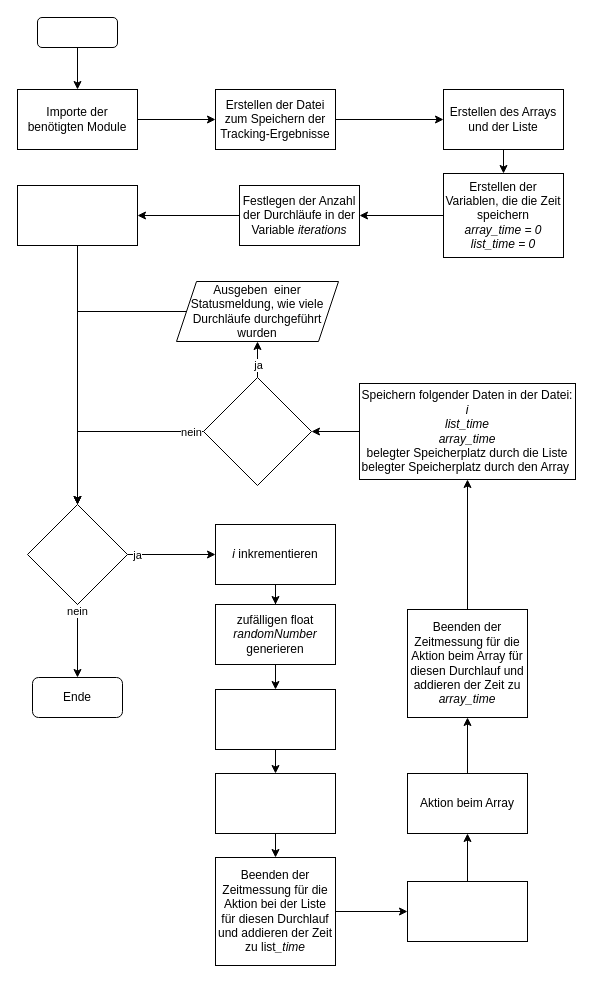
The diagram is 593 pixels wide and 983 high, and some of its shapes have lost their labels. The centre of each missing label's shape, as x and y in pixels:
Aktion bei der Liste: the point at 275,803
Erstellen der Zählvariable i = 0: the point at 77,215
i < iterations?: the point at 77,554
Ist i%1000 gleich 0 ?: the point at 257,431
Start: the point at 77,32
Start der Zeitmessung des Durchlaufs für die Aktion bei der Liste: the point at 275,719
Start der Zeitmessung des Durchlaufs für die Aktion beim Array: the point at 467,911
